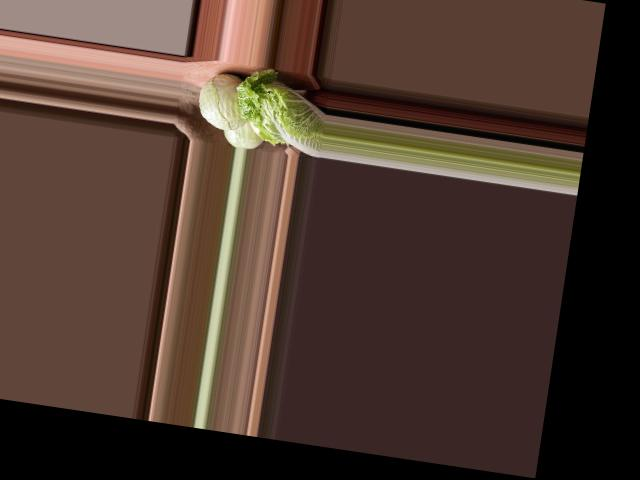lettuce: (229, 63, 330, 154)
